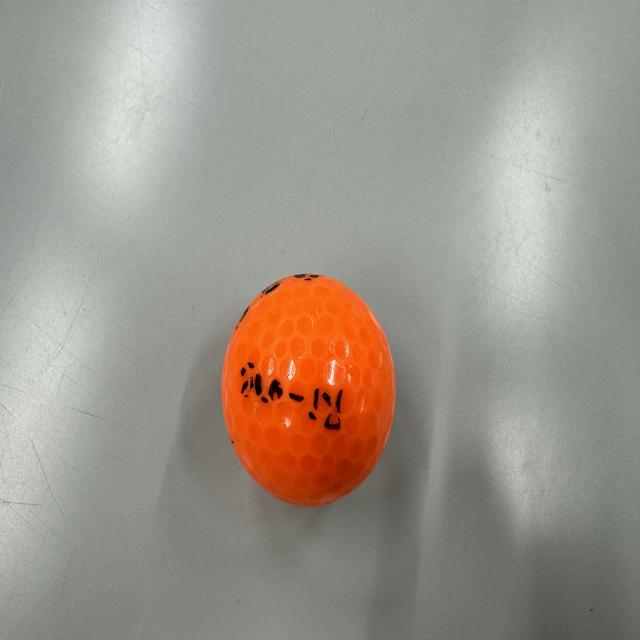ball: (220, 269, 400, 522)
